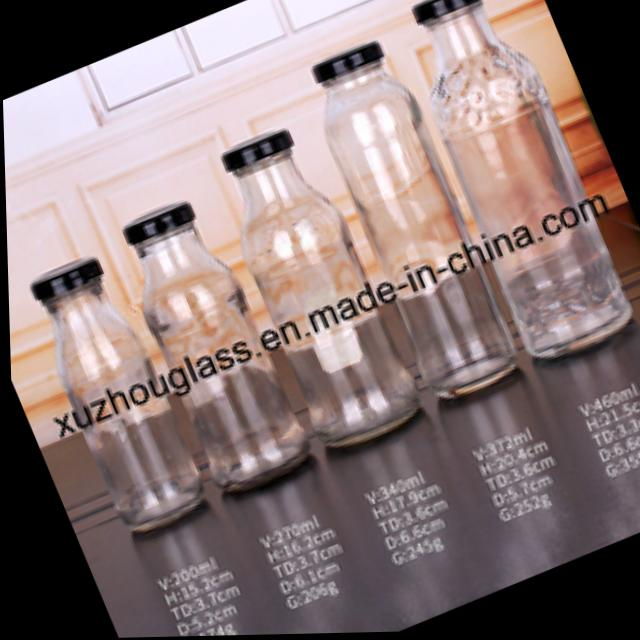glass_beverage_bottles: (394, 0, 640, 373), (296, 36, 523, 408), (209, 118, 429, 459), (108, 192, 310, 501), (15, 247, 212, 544)
